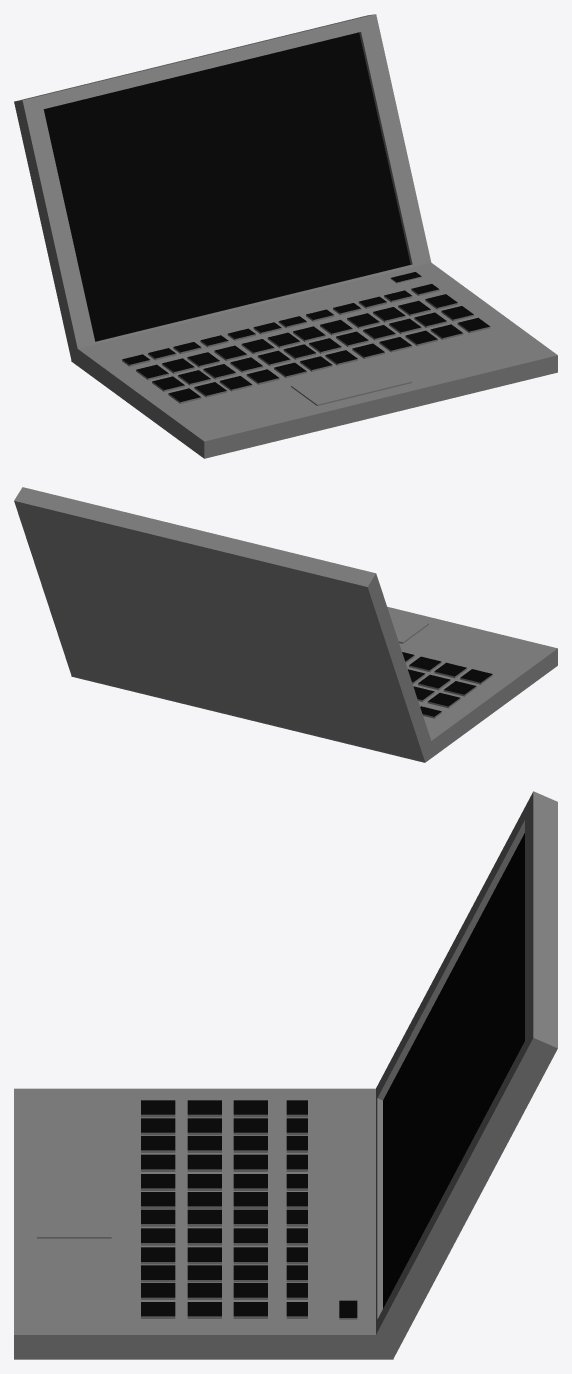
The model's file is laptop.fbx.
3 views of the same model, one above another, from view 1: azimuth 30°, elevation 25°; view 2: azimuth 150°, elevation 25°; view 3: azimuth 270°, elevation 25° (orthographic). The views are drawn at different scales.
Visible parts, largest first — view 1: Laptop; view 2: Laptop; view 3: Laptop.
Part boxes in pixels (box(x1,y1,x2,y2)): Laptop: box(14, 14, 557, 458); Laptop: box(14, 487, 557, 762); Laptop: box(14, 791, 557, 1359).
Bounding box in the file's own units: 307 × 187 × 286.
